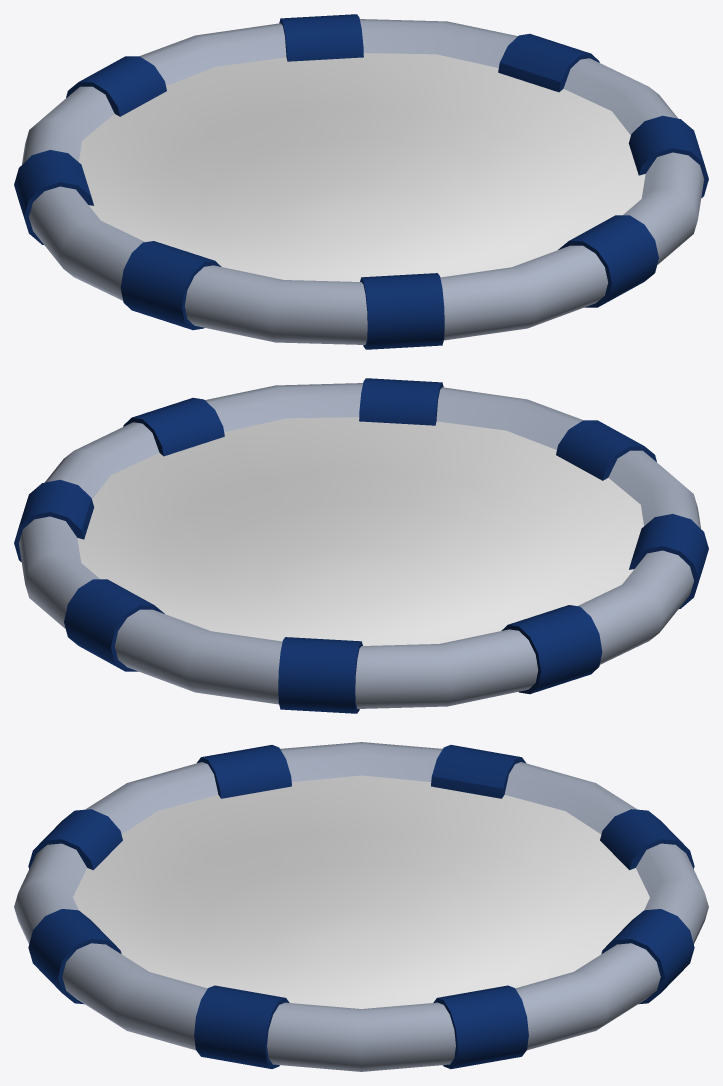
The model's file is trampoline-blend2.fbx.
3 views of the same model, one above another, from view 1: azimuth 30°, elevation 25°; view 2: azimuth 150°, elevation 25°; view 3: azimuth 270°, elevation 25° (orthographic).
Parts seen in each view (by area): view 1: Trampoline; view 2: Trampoline; view 3: Trampoline.
Part boxes in pixels (left/top/right/bottom): Trampoline: left=14, top=14, right=708, bottom=349; Trampoline: left=14, top=378, right=708, bottom=713; Trampoline: left=14, top=742, right=708, bottom=1071.
Size of the model in its own units: 220 by 26.52 by 220.
